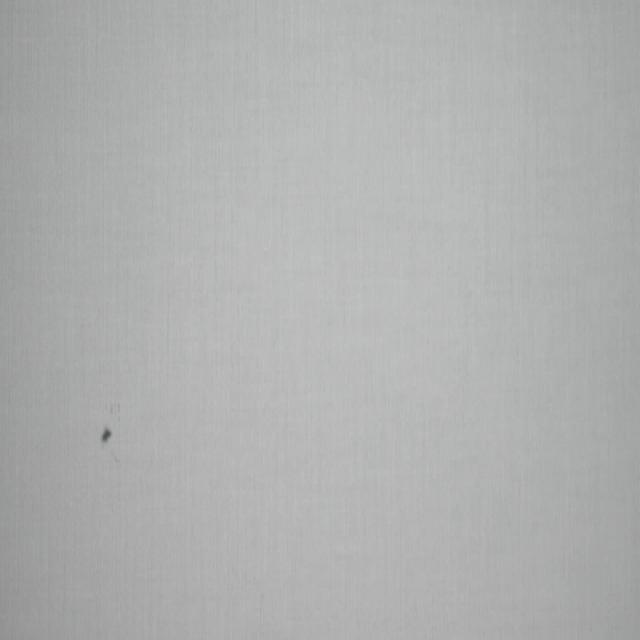dirty: (101, 424, 112, 445)
